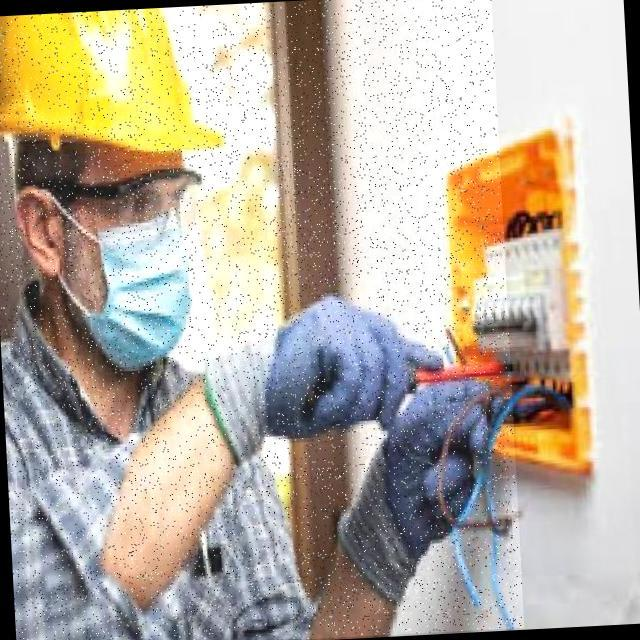Gloves: (321, 369, 521, 586), (199, 289, 452, 440)
Helmet: (0, 5, 220, 172)
Person: (0, 0, 570, 640)
no-vest: (4, 283, 340, 640)
